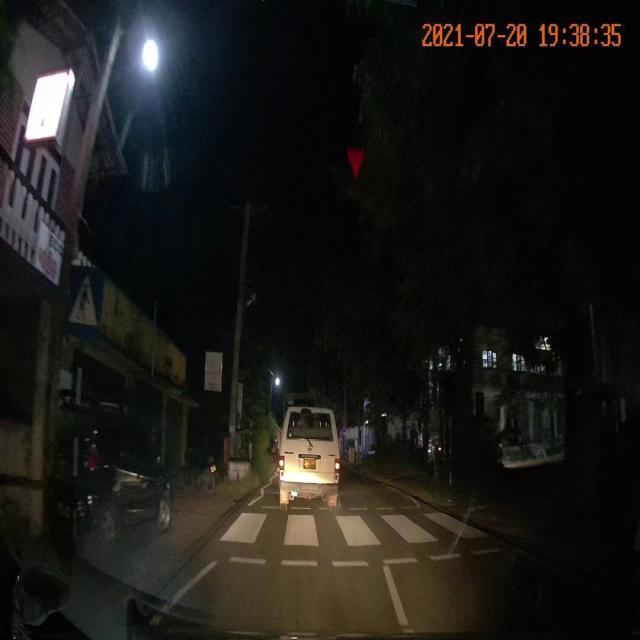Crosswalk: (198, 499, 516, 573)
